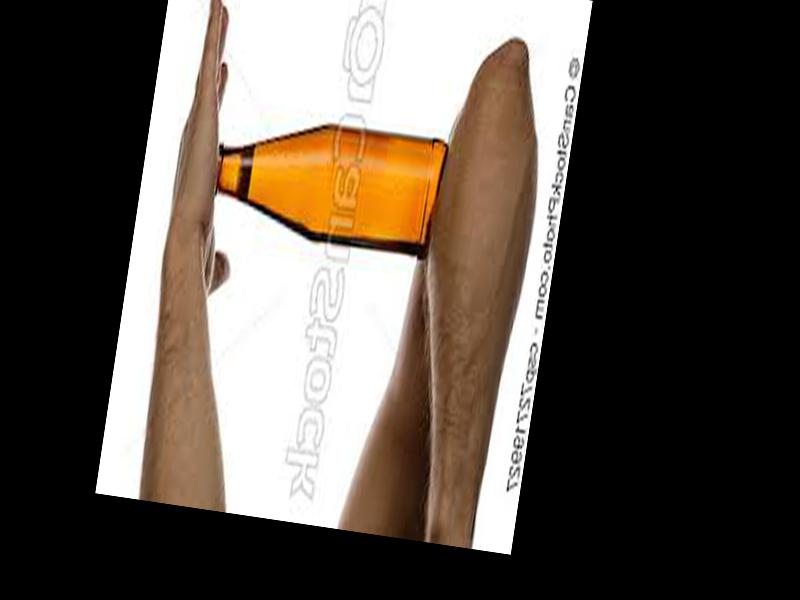Beer: (203, 104, 445, 264)
